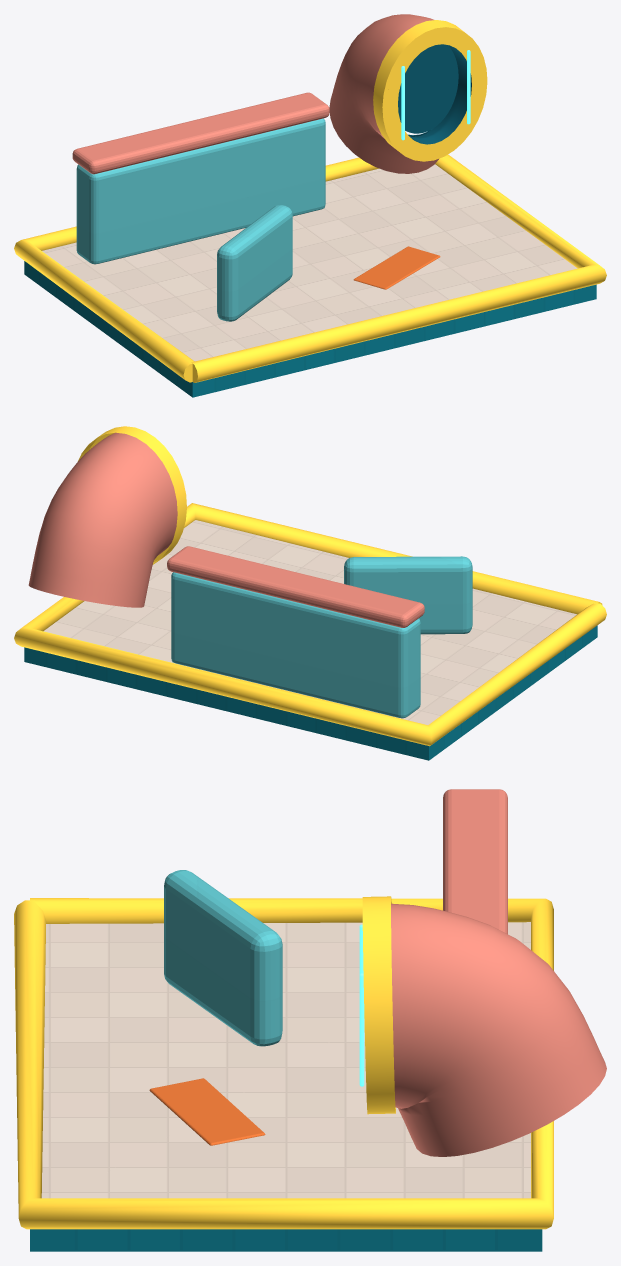
Rendered from twin_bays_art_v10_hero_kit.glb.
3 renders of one model, top to bottom at view 1: azimuth 30°, elevation 25°; view 2: azimuth 150°, elevation 25°; view 3: azimuth 270°, elevation 25°, orthographic. The views are drawn at different scales.
Parts seen in each view (by area): view 1: Hero_TBSA_DryCream, Hero_TBSA_Cyan, Hero_TBSA_SafetyYellow, Hero_TBSA_CoralSoft, Hero_TBSA_CyanDark, Hero_TBSA_PortalRecess, Hero_TBSA_PickupOrange, Hero_TBSA_PortalCyan; view 2: Hero_TBSA_Cyan, Hero_TBSA_CoralSoft, Hero_TBSA_SafetyYellow, Hero_TBSA_DryCream, Hero_TBSA_CyanDark; view 3: Hero_TBSA_DryCream, Hero_TBSA_CoralSoft, Hero_TBSA_SafetyYellow, Hero_TBSA_Cyan, Hero_TBSA_CyanDark, Hero_TBSA_PickupOrange, Hero_TBSA_PortalCyan.
Boxes of the visible parts, <box> form: Hero_TBSA_DryCream: <box>42,164,577,361</box>; Hero_TBSA_Cyan: <box>76,118,325,321</box>; Hero_TBSA_SafetyYellow: <box>14,20,606,382</box>; Hero_TBSA_CoralSoft: <box>72,14,438,174</box>; Hero_TBSA_CyanDark: <box>24,261,596,397</box>; Hero_TBSA_PortalRecess: <box>398,44,471,144</box>; Hero_TBSA_PickupOrange: <box>353,246,440,289</box>; Hero_TBSA_PortalCyan: <box>401,50,470,140</box>; Hero_TBSA_Cyan: <box>171,556,472,718</box>; Hero_TBSA_CoralSoft: <box>28,432,424,627</box>; Hero_TBSA_SafetyYellow: <box>14,426,606,746</box>; Hero_TBSA_DryCream: <box>43,520,576,724</box>; Hero_TBSA_CyanDark: <box>24,625,597,760</box>; Hero_TBSA_DryCream: <box>41,922,530,1198</box>; Hero_TBSA_CoralSoft: <box>391,789,606,1156</box>; Hero_TBSA_SafetyYellow: <box>14,896,553,1229</box>; Hero_TBSA_Cyan: <box>164,870,282,1046</box>; Hero_TBSA_CyanDark: <box>30,1229,542,1251</box>; Hero_TBSA_PickupOrange: <box>149,1078,265,1145</box>; Hero_TBSA_PortalCyan: <box>359,924,364,1086</box>.
Bounding box in the file's own units: 18.7 × 8.68 × 15.05.
8 materials, 4 textured.
